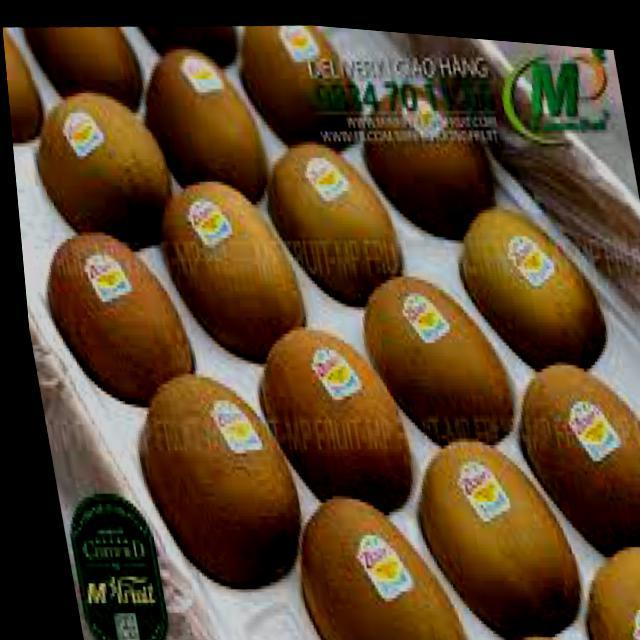kiwi: (398, 425, 574, 640), (114, 384, 288, 597), (16, 213, 193, 396), (347, 269, 518, 450), (282, 484, 472, 640), (157, 169, 316, 351), (503, 345, 640, 549), (241, 329, 398, 501), (259, 130, 411, 282), (352, 68, 502, 220), (141, 38, 271, 190), (235, 16, 373, 153), (7, 86, 112, 234)
